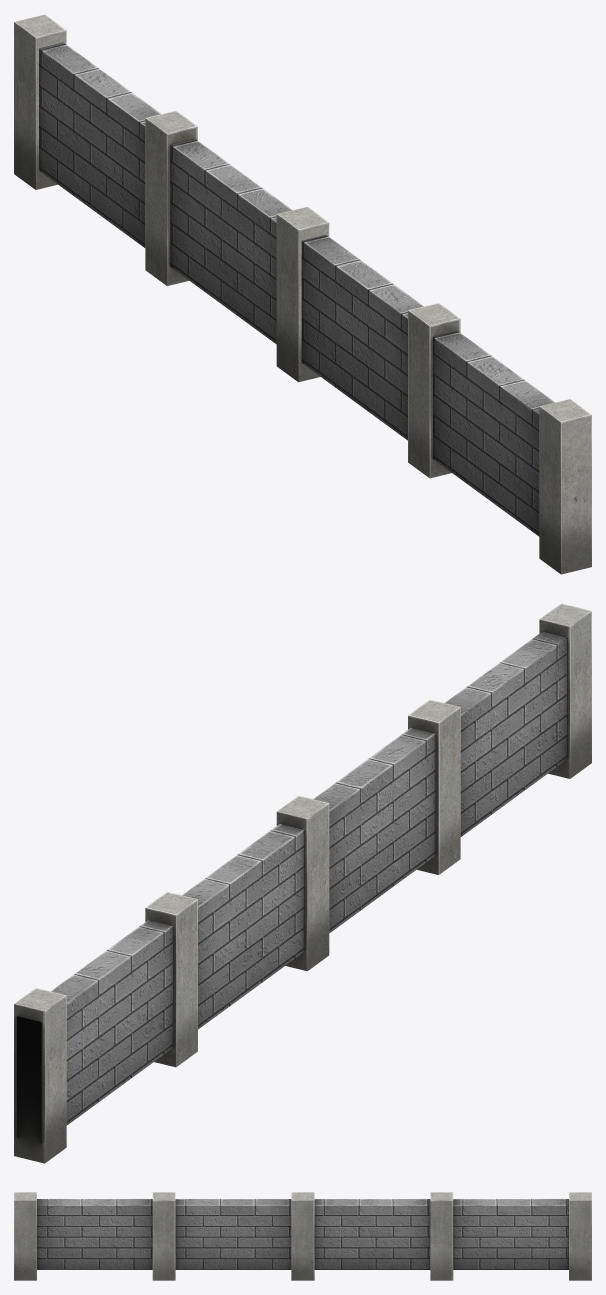
Rendered from Wall.fbx.
3 renders of one model, top to bottom at view 1: azimuth 30°, elevation 25°; view 2: azimuth 150°, elevation 25°; view 3: azimuth 270°, elevation 25°, orthographic. The views are drawn at different scales.
Visible parts, largest first — view 1: pasted__polySurface228; view 2: pasted__polySurface228; view 3: pasted__polySurface228.
Boxes of the visible parts, x1=… form: pasted__polySurface228: x1=14, y1=14, x2=591, y2=574; pasted__polySurface228: x1=14, y1=603, x2=591, y2=1163; pasted__polySurface228: x1=14, y1=1192, x2=591, y2=1280.
Size of the model in its own units: 26.87 by 127 by 826.
